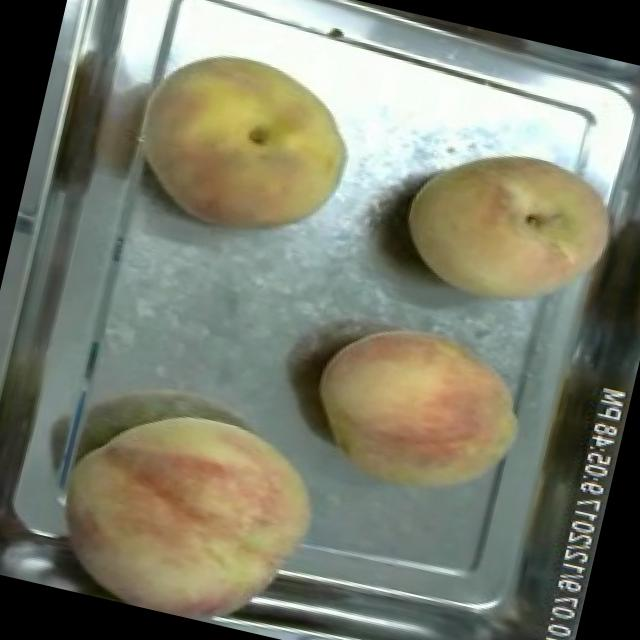Fruit: (30, 377, 338, 640), (116, 27, 372, 260), (287, 296, 544, 520), (378, 116, 636, 336)
